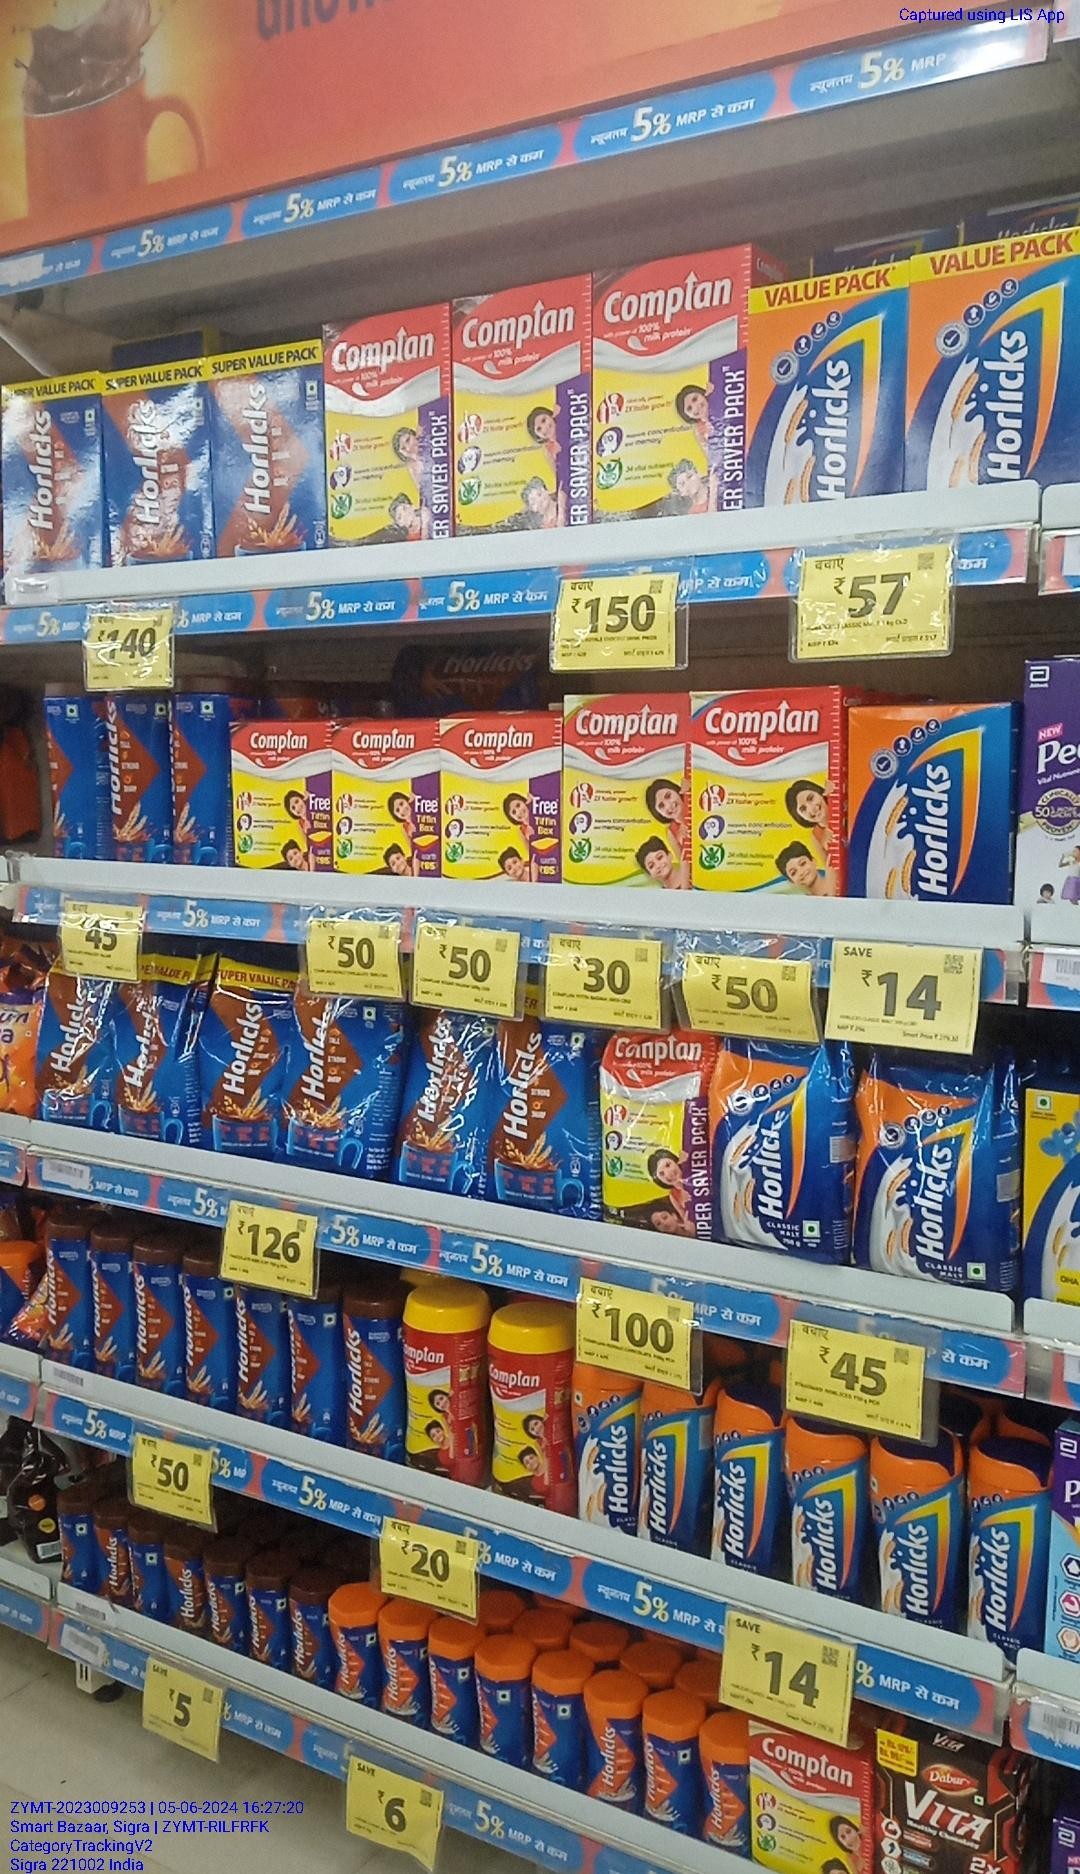COMPLAN_CHOCOLATE_500_GMS_JAR: (489, 1314, 568, 1510), (403, 1292, 485, 1475)
COMPLAN_CREAMY_CLASSIC_500_G_PACK: (694, 692, 838, 891)
COMPLAN_PISTA_BADAM_500_GMS_PACK: (561, 692, 689, 891)
HORLICK_CHOCOLATE_1_KG_PACK: (215, 351, 322, 548), (104, 371, 211, 559), (0, 373, 98, 568)
HORLICK_CHOCOLATE_200_G_JAR: (287, 1581, 327, 1684), (246, 1569, 284, 1668), (205, 1557, 243, 1653), (165, 1541, 202, 1633)
HORLICK_CHOCOLATE_750_G_POUCH: (497, 1022, 592, 1216), (394, 1009, 489, 1193), (201, 951, 279, 1157), (287, 994, 376, 1170), (41, 972, 113, 1129)
HORLICK_CLASSIC_MALT_200_G_JAR: (642, 1704, 695, 1839), (584, 1696, 640, 1806), (699, 1727, 748, 1851), (426, 1635, 476, 1743), (378, 1619, 421, 1726), (331, 1602, 373, 1707)
HORLICK_CLASSIC_MALT_500_G_PACK: (848, 708, 1012, 901)
